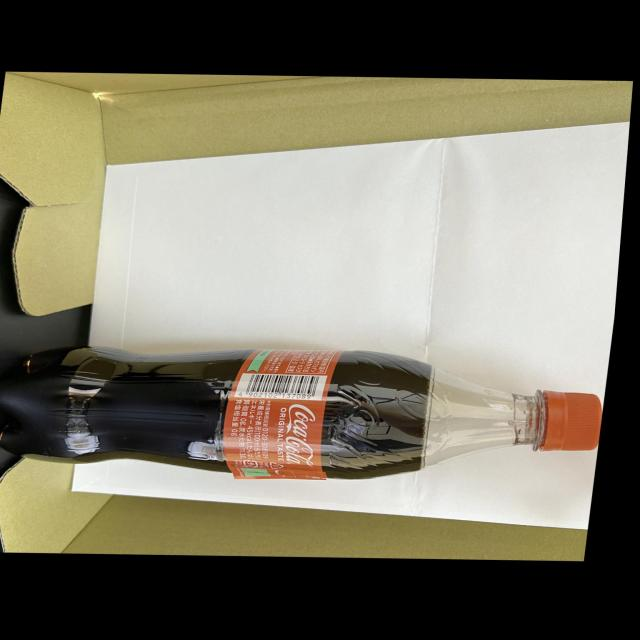high: (0, 347, 601, 481)
